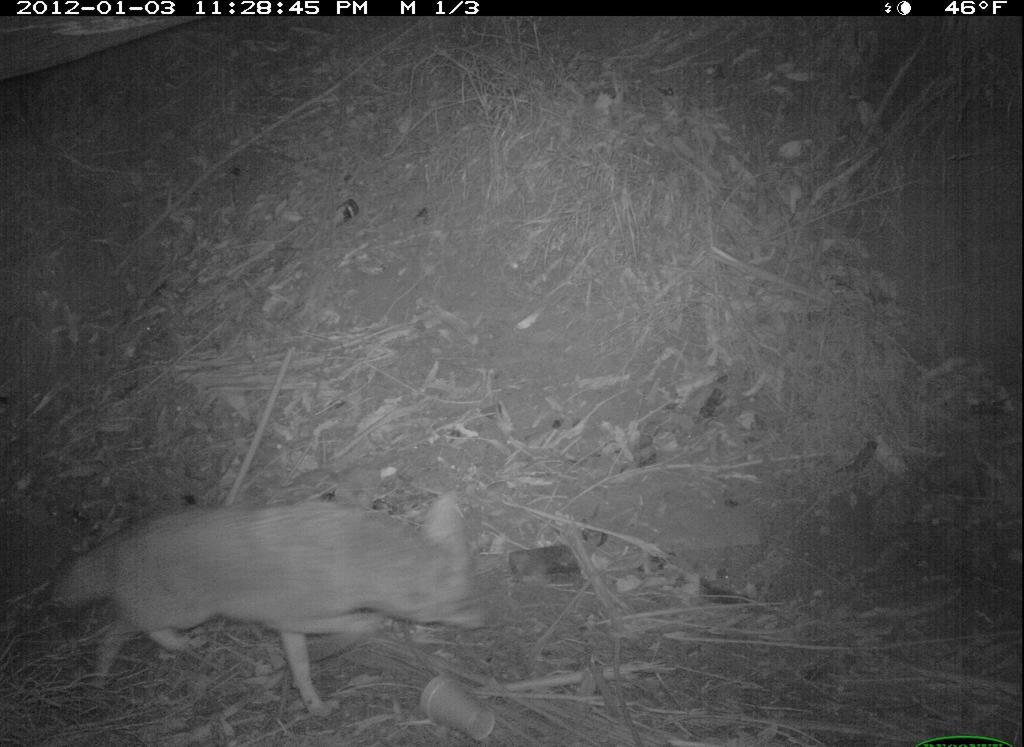coyote: (41, 489, 497, 728)
